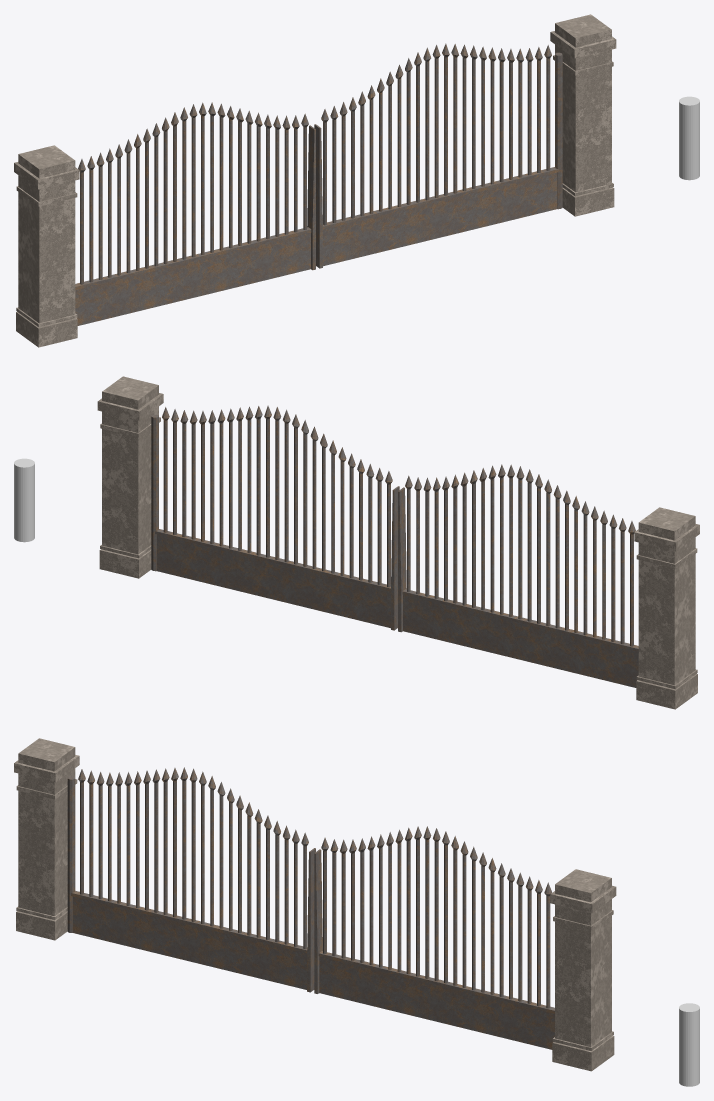
Rendered from gate.glb.
The picture shows the model from 3 angles, top to bottom: view 1: azimuth 30°, elevation 25°; view 2: azimuth 150°, elevation 25°; view 3: azimuth 330°, elevation 25°; orthographic projection.
Parts seen in each view (by area): view 1: SpikesR, SpikesL, Pillars-col, Ref-noimp; view 2: SpikesR, SpikesL, Pillars-col, Ref-noimp; view 3: SpikesL, SpikesR, Pillars-col, Ref-noimp.
Part boxes in pixels (x1,y1,x2,y2): SpikesR: [314, 43, 562, 268]; SpikesL: [75, 102, 315, 325]; Pillars-col: [14, 14, 616, 347]; Ref-noimp: [679, 96, 699, 180]; SpikesR: [151, 405, 399, 630]; SpikesL: [398, 464, 638, 687]; Pillars-col: [97, 376, 699, 709]; Ref-noimp: [14, 458, 34, 542]; SpikesL: [67, 767, 315, 992]; SpikesR: [314, 826, 554, 1049]; Pillars-col: [14, 738, 616, 1071]; Ref-noimp: [679, 1003, 699, 1086].
Size of what is drawn, in the model's own units: 18.86 by 5.23 by 1.17.
4 materials, 4 textured.
